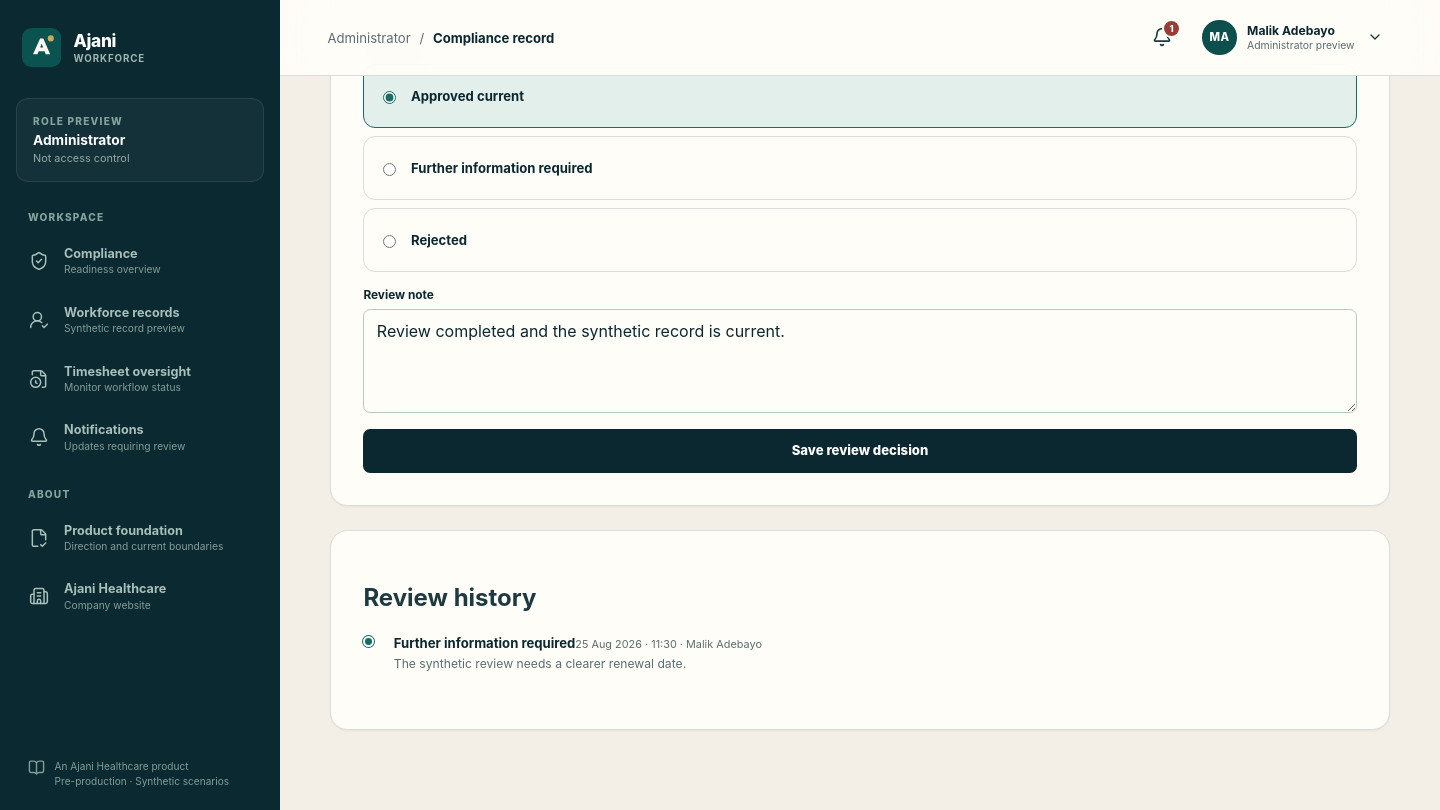
Operations web journeys › recovers safely when a reviewing compliance record changes after loading
(page scrolled)
Click the button "Save review decision" at point(860, 451), box [363,429,1357,473]
(page scrolled)
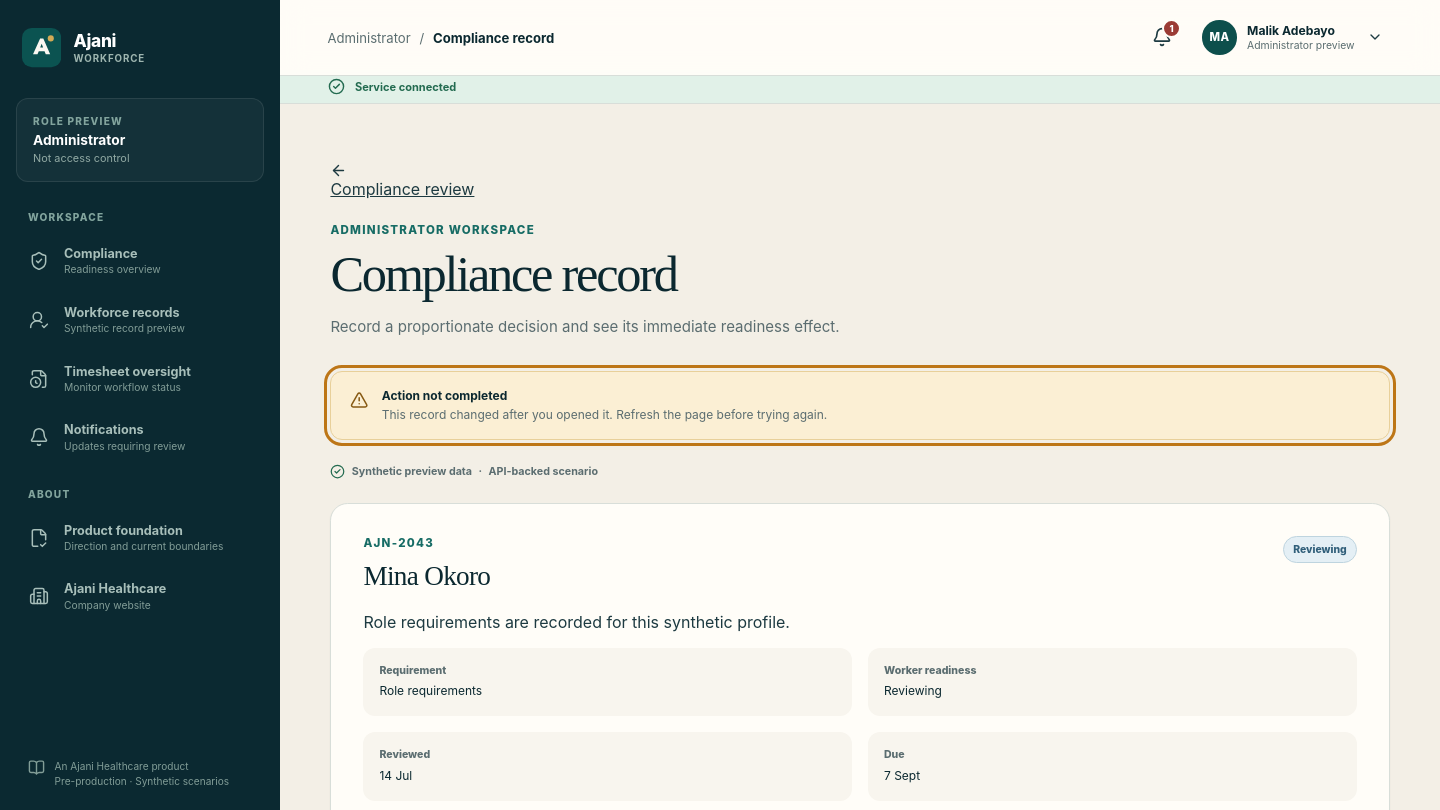
Check: the message shows "changed after you opened it", box [382,407,827,422]
